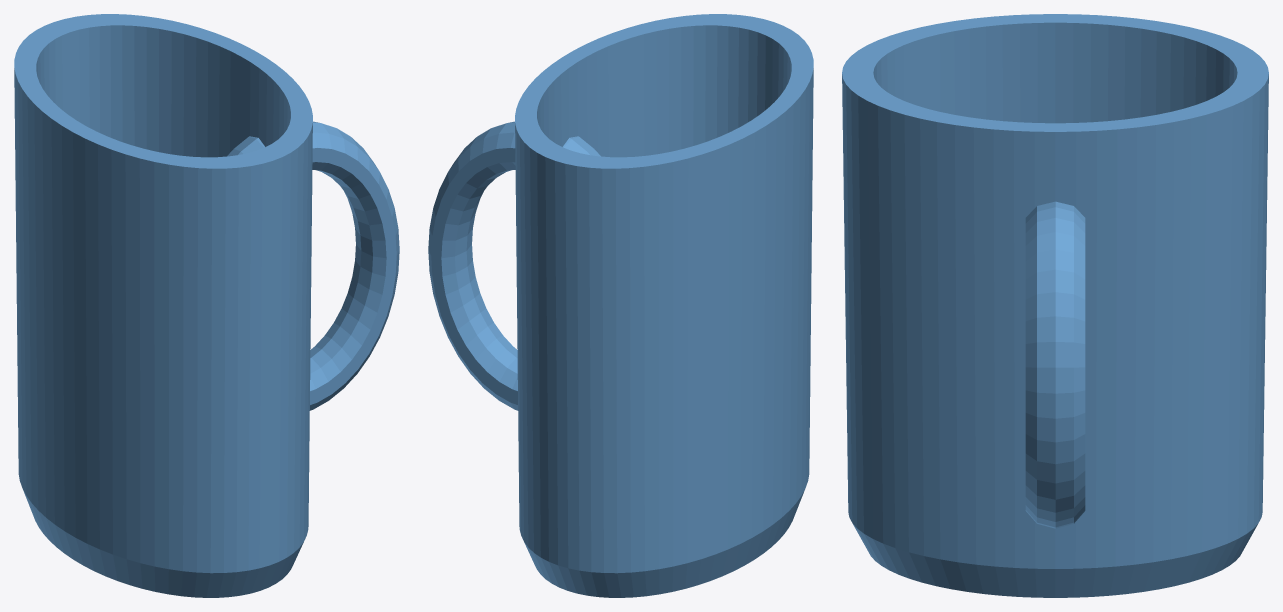
3 renders of one model, left to right at view 1: azimuth 30°, elevation 25°; view 2: azimuth 150°, elevation 25°; view 3: azimuth 270°, elevation 25°, orthographic. The views are drawn at different scales.
Visible parts, largest first — view 1: Cup, Handle; view 2: Cup, Handle; view 3: Cup, Handle.
Part boxes in pixels (x1=…): Cup: x1=14, y1=14, x2=312, y2=597; Handle: x1=227, y1=121, x2=399, y2=410; Cup: x1=515, y1=14, x2=813, y2=597; Handle: x1=428, y1=121, x2=600, y2=410; Cup: x1=842, y1=14, x2=1268, y2=597; Handle: x1=1025, y1=201, x2=1085, y2=528.
Bounding box in the file's own units: 0.09 × 0.11 × 0.09.
